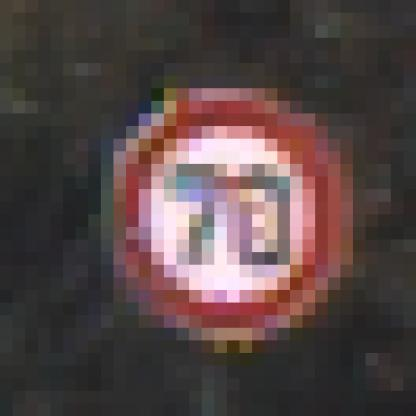Speed Limit 70: (121, 92, 346, 336)
